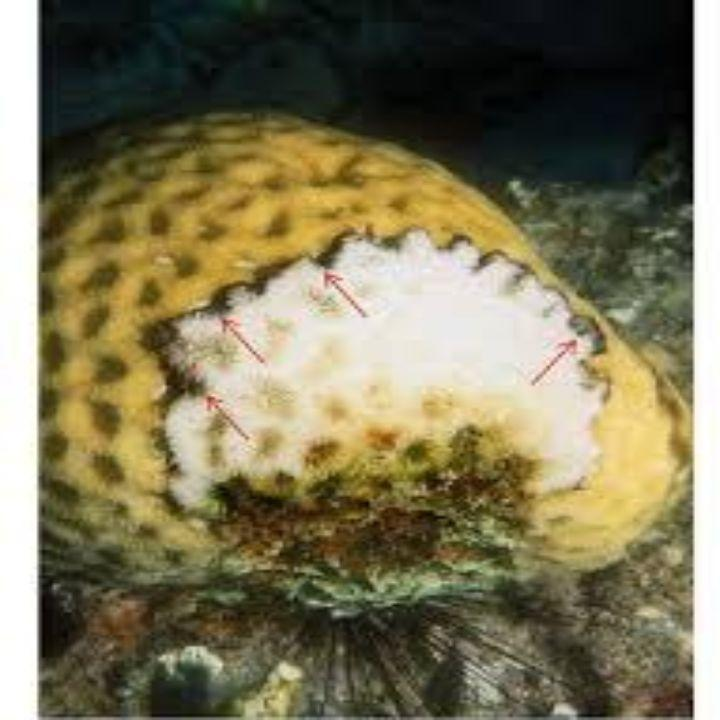Band disease: (155, 222, 613, 510)
